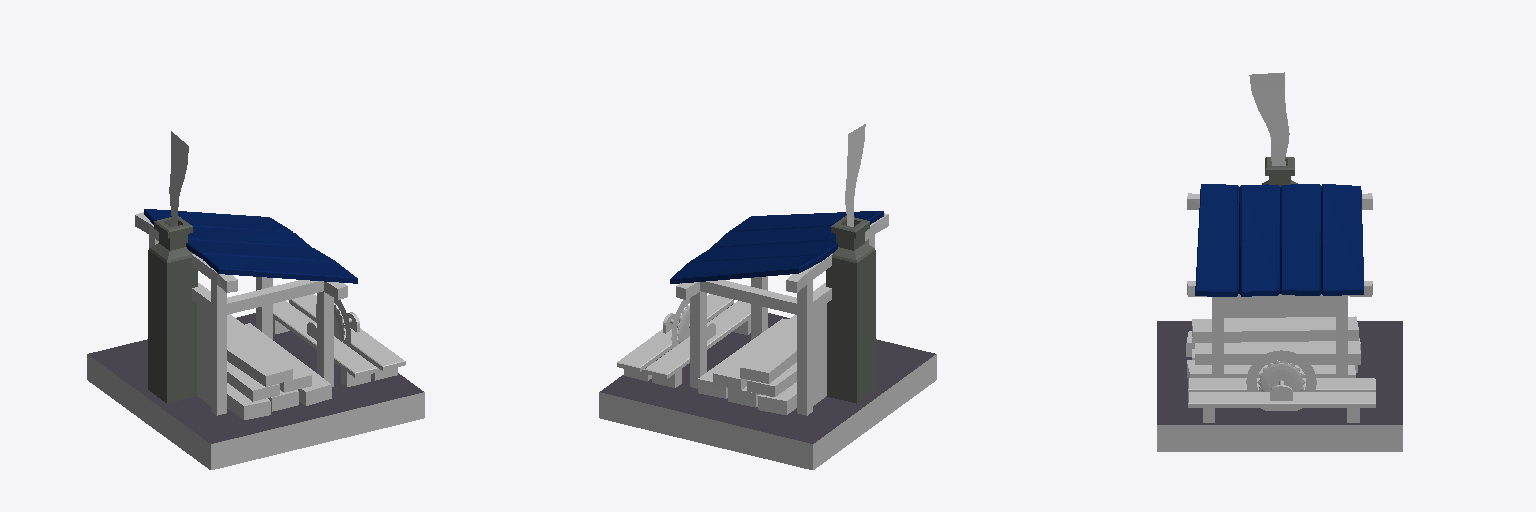
3 views of the same model, side by side, from view 1: azimuth 30°, elevation 25°; view 2: azimuth 150°, elevation 25°; view 3: azimuth 270°, elevation 25° (orthographic).
Parts seen in each view (by area): view 1: floor_Plane.007, frame_Plane.002, chimney_Plane.005, roof_Plane.003, saw_table_Plane.006, wood_planks_02_Plane.004, wood_planks_01_Plane.011, wood_planks_00_Plane.008, smoke_Plane; view 2: floor_Plane.007, frame_Plane.002, chimney_Plane.005, roof_Plane.003, saw_table_Plane.006, wood_planks_02_Plane.004, wood_planks_01_Plane.011, wood_planks_00_Plane.008, smoke_Plane; view 3: roof_Plane.003, floor_Plane.007, wood_planks_02_Plane.004, frame_Plane.002, saw_table_Plane.006, smoke_Plane, saw_blade_effect_Circle, wood_planks_01_Plane.011, saw_blade_Plane.001, chimney_Plane.005.
Part boxes in pixels (x1,y1,x2,y2): floor_Plane.007: (87, 304, 424, 469); frame_Plane.002: (135, 212, 347, 415); chimney_Plane.005: (148, 216, 197, 403); roof_Plane.003: (144, 209, 357, 283); saw_table_Plane.006: (273, 294, 405, 386); wood_planks_02_Plane.004: (227, 314, 311, 392); wood_planks_01_Plane.011: (227, 323, 331, 405); wood_planks_00_Plane.008: (227, 383, 298, 419); smoke_Plane: (169, 131, 188, 226); floor_Plane.007: (599, 304, 936, 469); frame_Plane.002: (676, 213, 888, 415); chimney_Plane.005: (826, 215, 875, 403); roof_Plane.003: (670, 211, 883, 283); saw_table_Plane.006: (617, 294, 750, 387); wood_planks_02_Plane.004: (713, 315, 796, 389); wood_planks_01_Plane.011: (698, 318, 796, 398); wood_planks_00_Plane.008: (728, 382, 796, 414); smoke_Plane: (845, 124, 865, 226); roof_Plane.003: (1195, 184, 1363, 296); floor_Plane.007: (1157, 321, 1402, 451); wood_planks_02_Plane.004: (1192, 316, 1360, 364); frame_Plane.002: (1187, 193, 1372, 377); saw_table_Plane.006: (1188, 378, 1375, 422); smoke_Plane: (1249, 72, 1289, 165); saw_blade_effect_Circle: (1246, 350, 1316, 410); wood_planks_01_Plane.011: (1187, 337, 1355, 378); saw_blade_Plane.001: (1257, 360, 1305, 391); chimney_Plane.005: (1262, 157, 1297, 186).
Bounding box in the file's own units: 4 × 5.13 × 4.